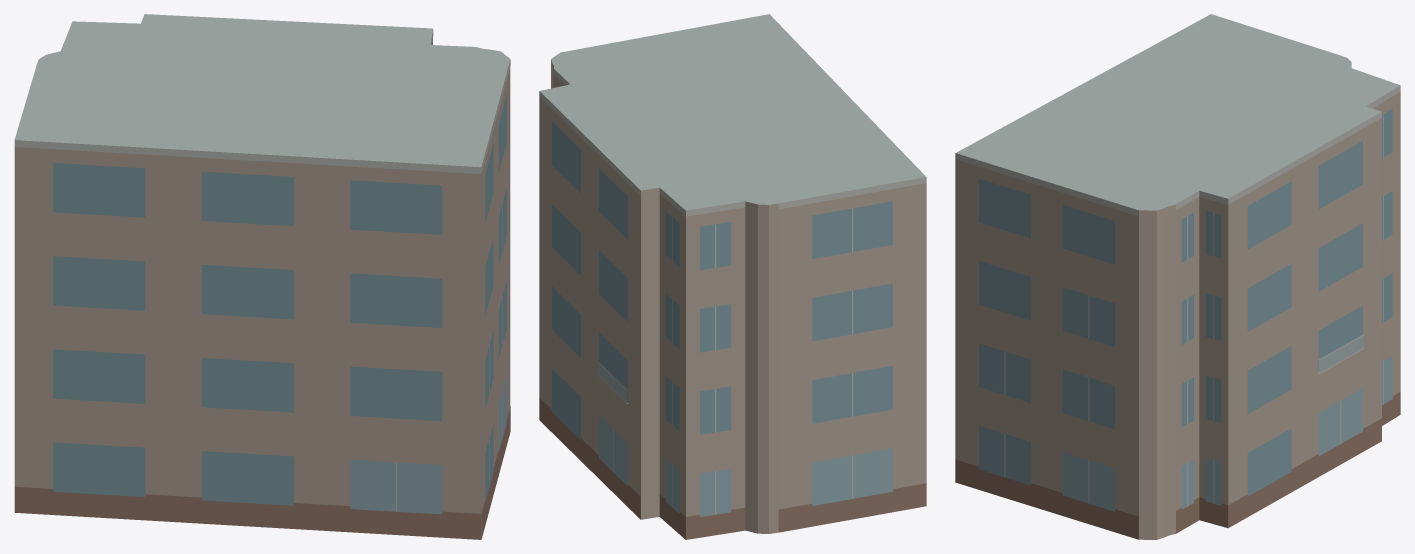
The model's file is survey-upis-33021683.glb.
The picture shows the model from 3 angles, left to right: view 1: azimuth 30°, elevation 25°; view 2: azimuth 150°, elevation 25°; view 3: azimuth 270°, elevation 25°; orthographic projection. The views are drawn at different scales.
Visible parts, largest first — view 1: survey-upis-33021683.tmp; view 2: survey-upis-33021683.tmp; view 3: survey-upis-33021683.tmp.
Boxes of the visible parts, x1,y1,x2,y2 form: survey-upis-33021683.tmp: (14, 14, 510, 539); survey-upis-33021683.tmp: (539, 14, 926, 539); survey-upis-33021683.tmp: (955, 14, 1400, 539).
Size of the model in its own units: 17.02 by 13.3 by 16.3.
